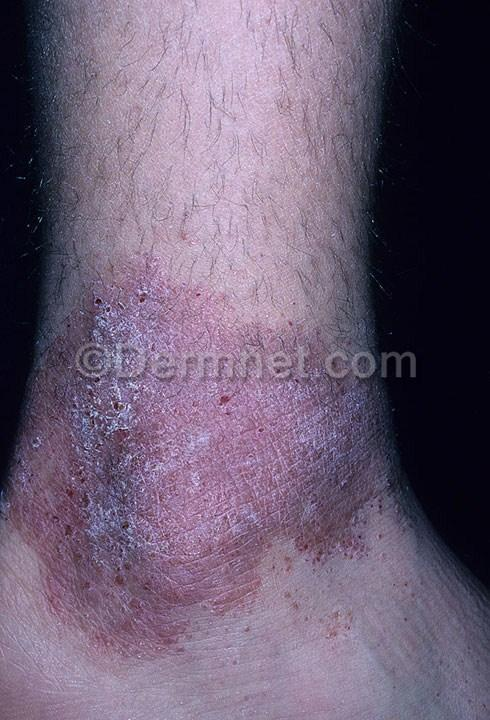Eczema: (32, 394, 370, 659), (65, 232, 368, 357)
